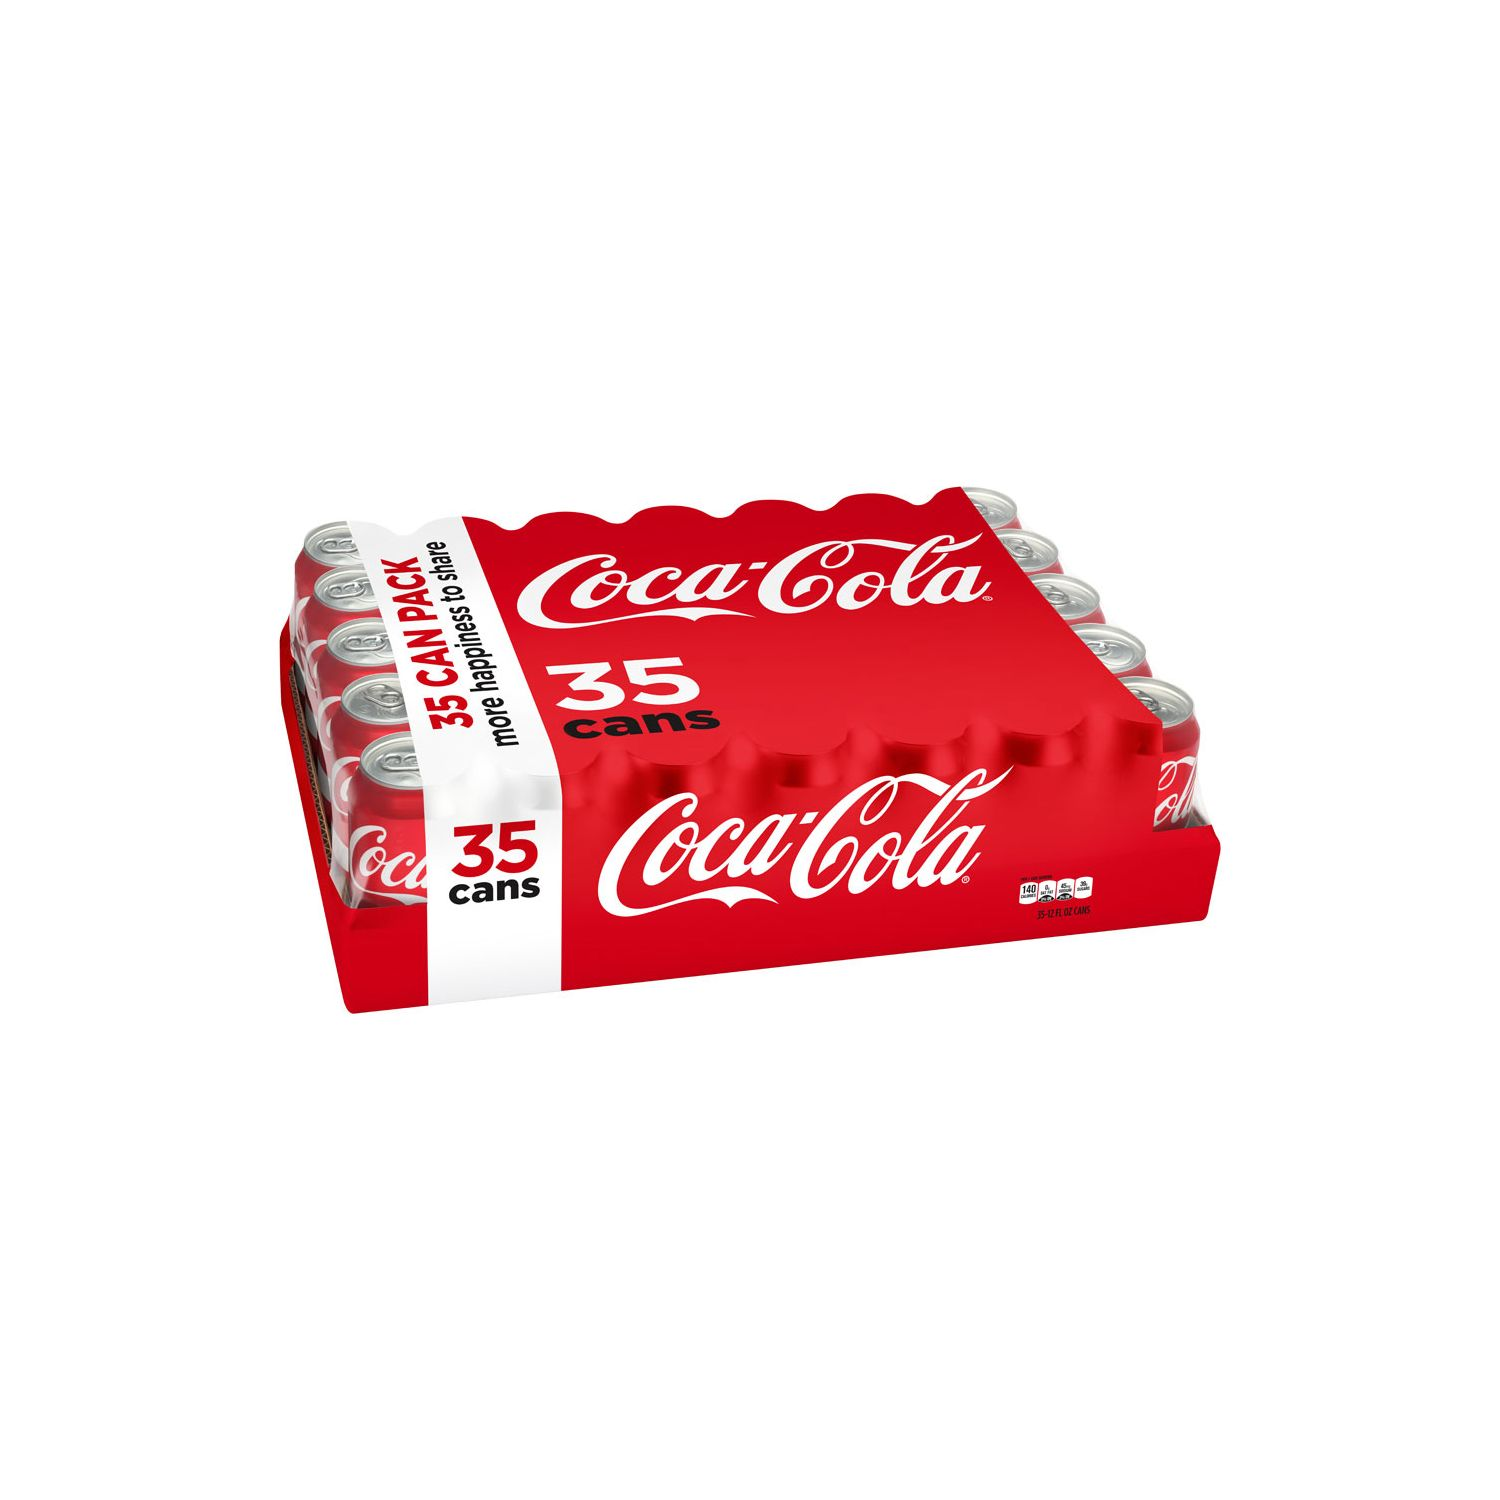Coca-Cola: (354, 721, 1253, 952)
